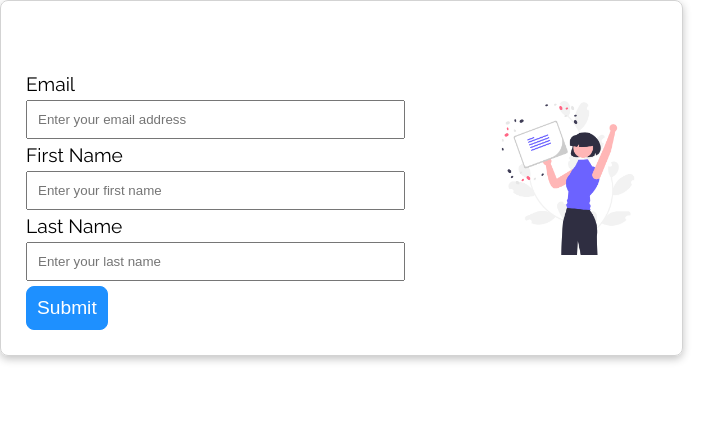
Test case: MultiPurposeFormComponent › renders the MultiPurposeFormComponent - registration version
Note: user enters invalid email address and an error message should appear.
Step 1. Type "me@gmail" into the field with placeholder "Enter your email address" → [215, 119], box [26,100,405,139]
Step 2. Type "Kim" into the field with placeholder "Enter your first name" → [215, 190], box [26,171,405,210]
Step 3. Type "Reynolds" into the field with placeholder "Enter your last name" → [215, 261], box [26,242,405,281]
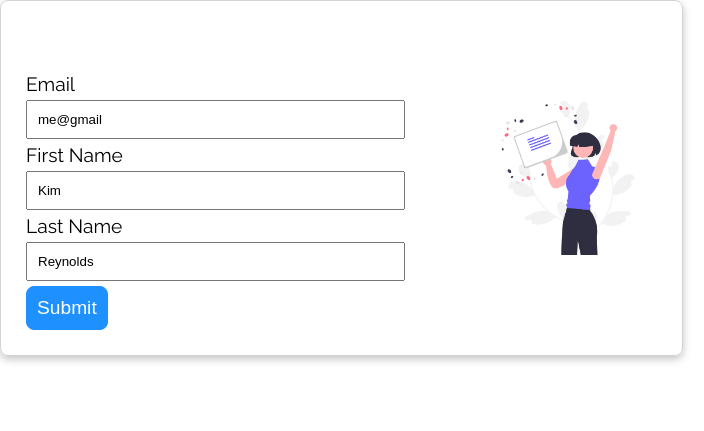
Step 4. Click the button "Submit" → [67, 308], box [26,286,108,330]
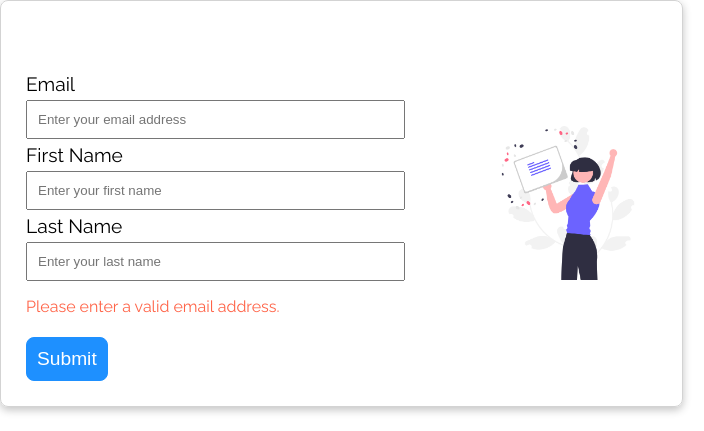
Result: the text "Please enter a valid email address." is shown at [26,297,280,316]
Step 5. Type "me@gmail.com" into the field with placeholder "Enter your email address" → [215, 119], box [26,100,405,139]
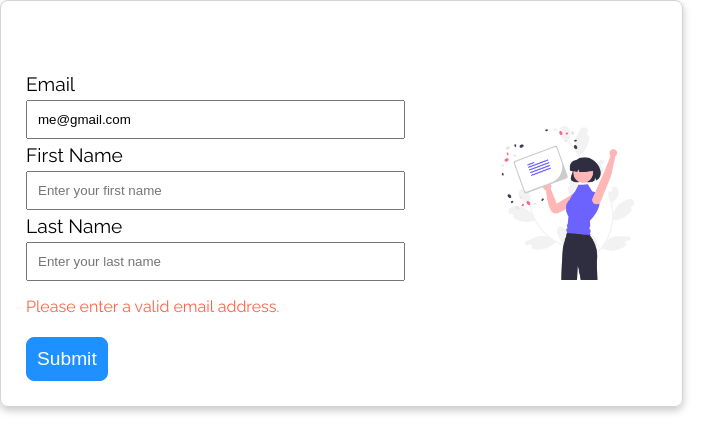
Step 6. Type "Kim" into the field with placeholder "Enter your first name" → [215, 190], box [26,171,405,210]
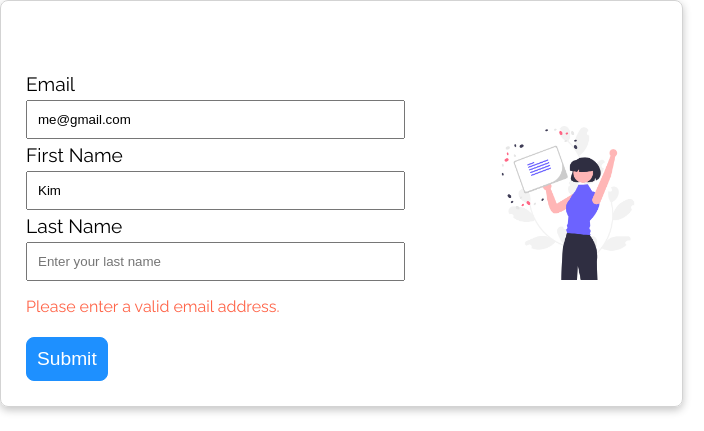
Step 7. Type "Reynolds" into the field with placeholder "Enter your last name" → [215, 261], box [26,242,405,281]
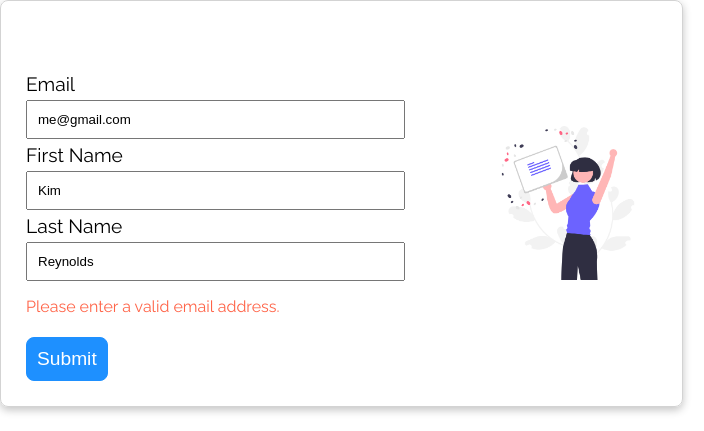
Step 8. Click the button "Submit" → [67, 359], box [26,337,108,381]
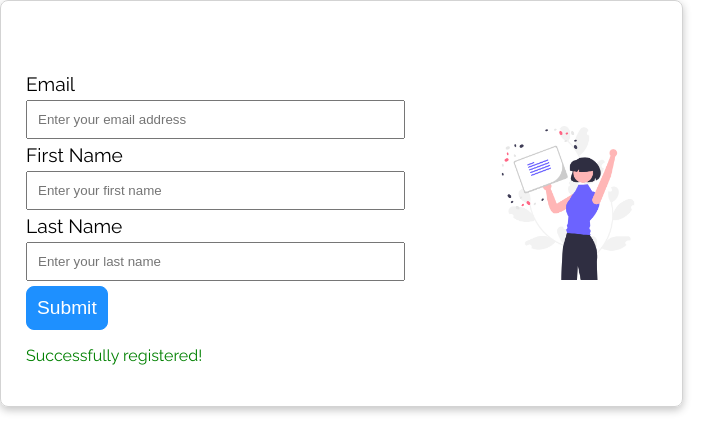
Result: the text "Successfully registered!" is shown at [26,346,202,365]
